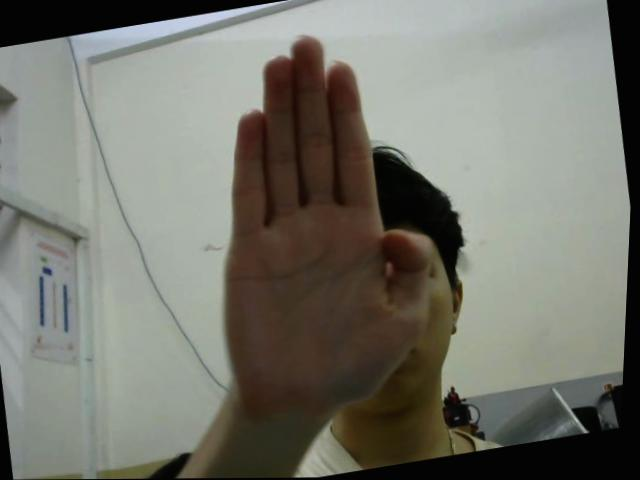B: (177, 18, 467, 427)
